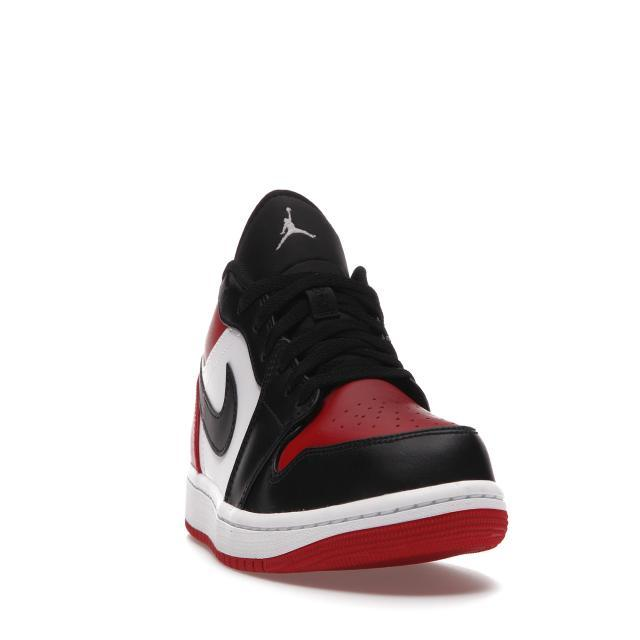J1_MateComp: (183, 187, 509, 574)
J1_ShoeLogo: (273, 204, 316, 251)
J1_StitchPattern: (198, 262, 428, 506), (183, 473, 509, 563), (241, 266, 407, 395), (212, 488, 508, 535), (269, 421, 478, 473), (251, 280, 347, 377), (336, 391, 455, 434), (194, 353, 240, 456)
